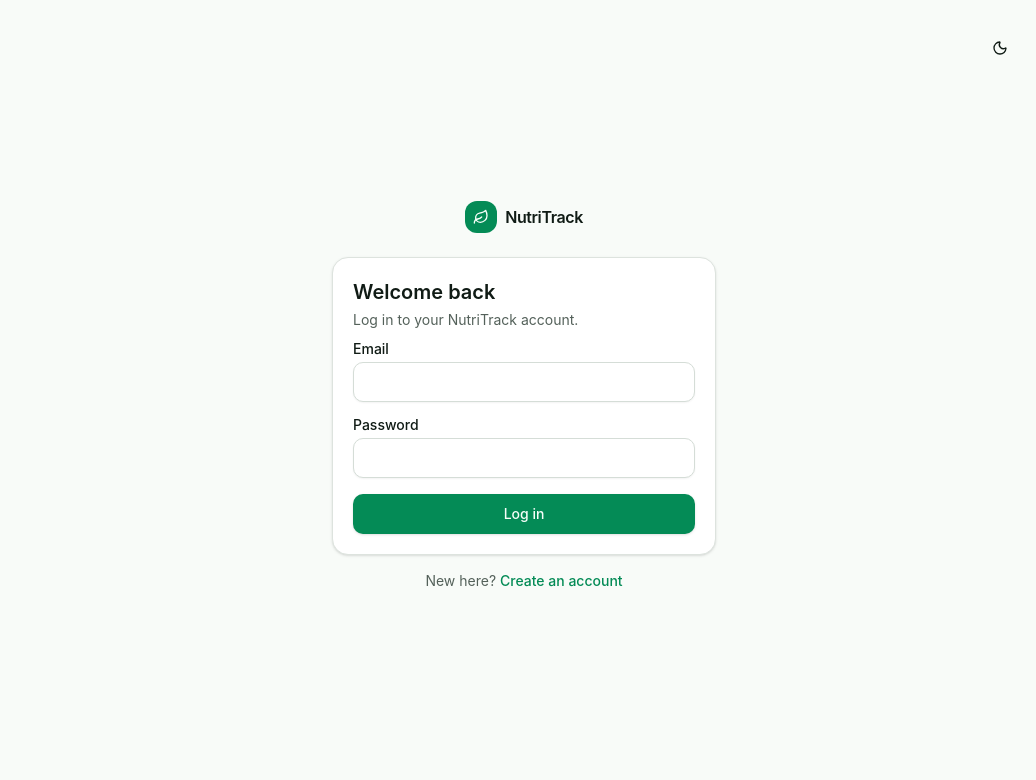
it: LoginPage › sends new users to onboarding
This screenshot has width=1036, height=780.
Type "new@example.com" into the field labelled "Email".
click(524, 382); type("new@example.com")  # box [353,362,695,402]
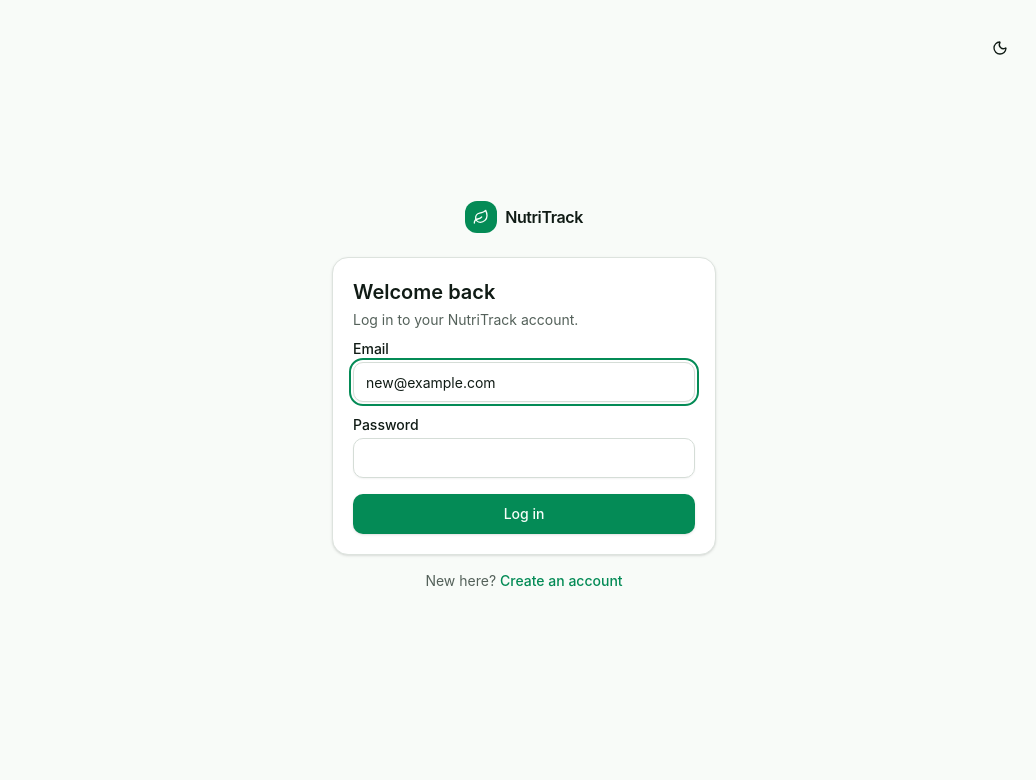
Type "secret123" into the password field labelled "Password".
click(524, 458); type("secret123")  # box [353,438,695,478]
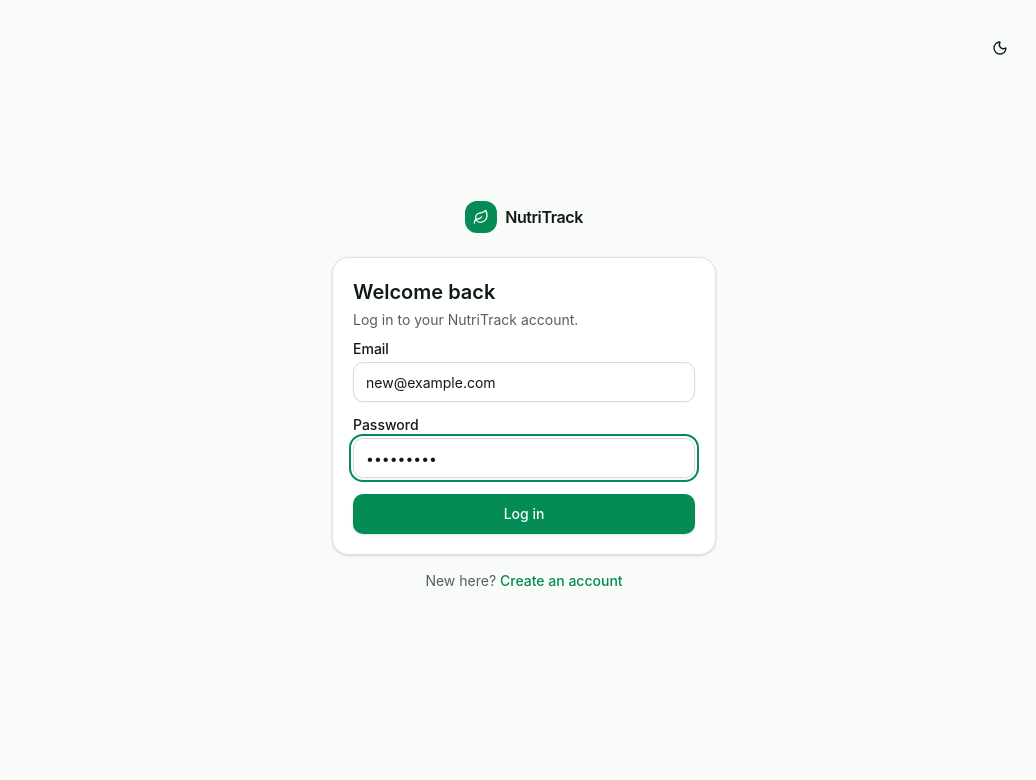
Click the button "Log in".
click(524, 514)  # box [353,494,695,534]
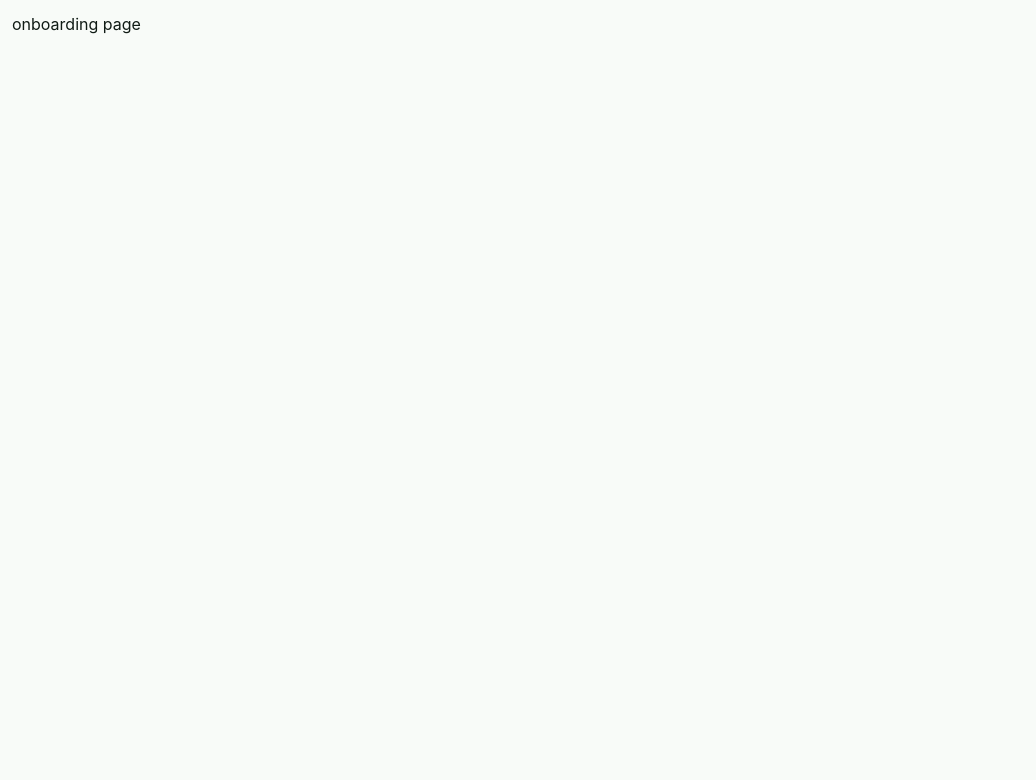
Now the text "onboarding page" is shown, box [12,14,141,34]
